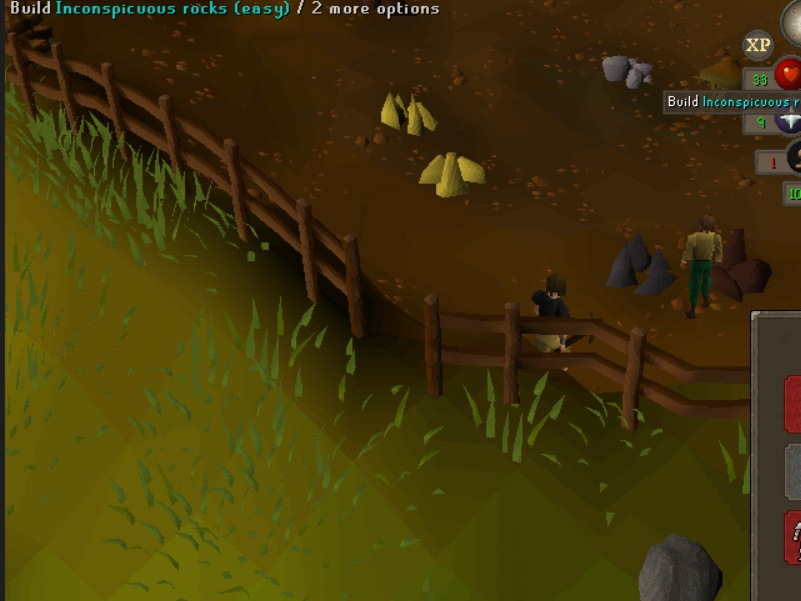gold: (417, 146, 490, 202), (379, 83, 442, 139)
iron: (699, 223, 781, 308)
